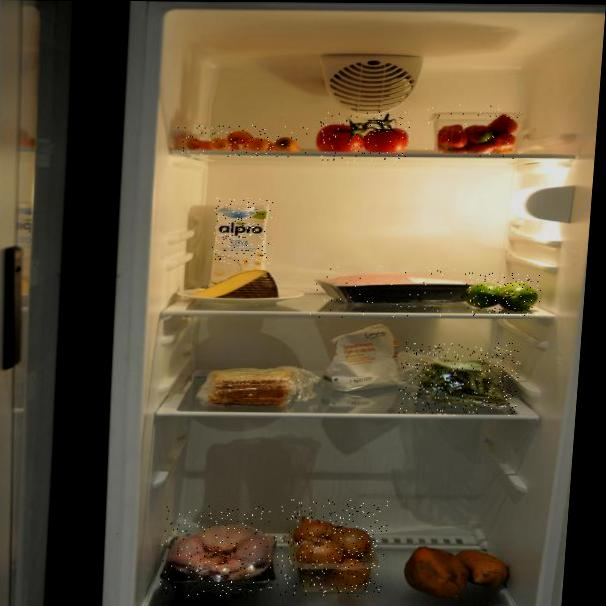bread: (209, 354, 309, 412)
carrots: (175, 124, 309, 158)
cheese: (200, 264, 287, 319)
chicken: (158, 506, 290, 597)
green beans: (397, 342, 522, 416)
lime: (462, 273, 542, 316)
meat: (307, 265, 478, 319)
milk: (210, 198, 273, 274)
onion: (284, 499, 389, 597)
strawberry: (424, 104, 523, 159)
tomatoes: (317, 111, 412, 163)
